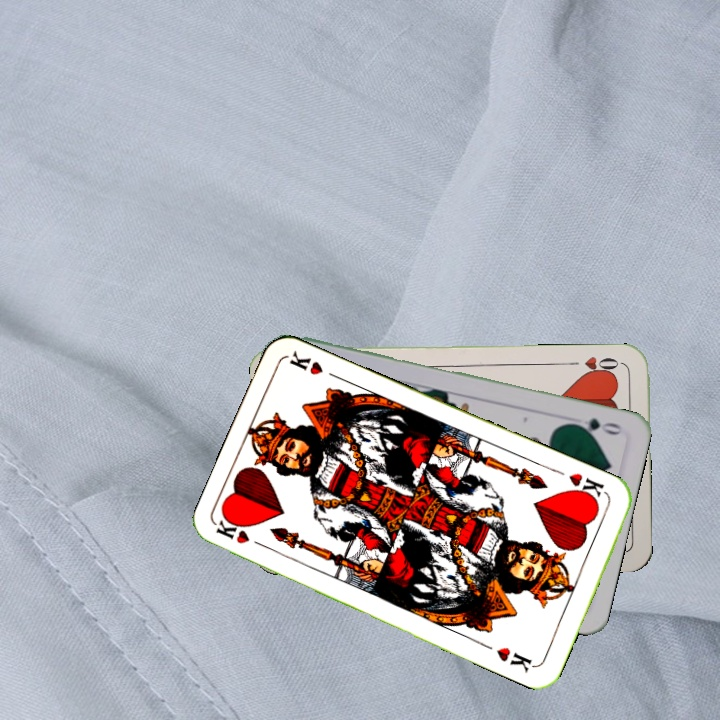GO: (566, 413, 625, 438)
HK: (213, 516, 271, 552), (564, 469, 610, 505)
HO: (564, 353, 623, 378)
